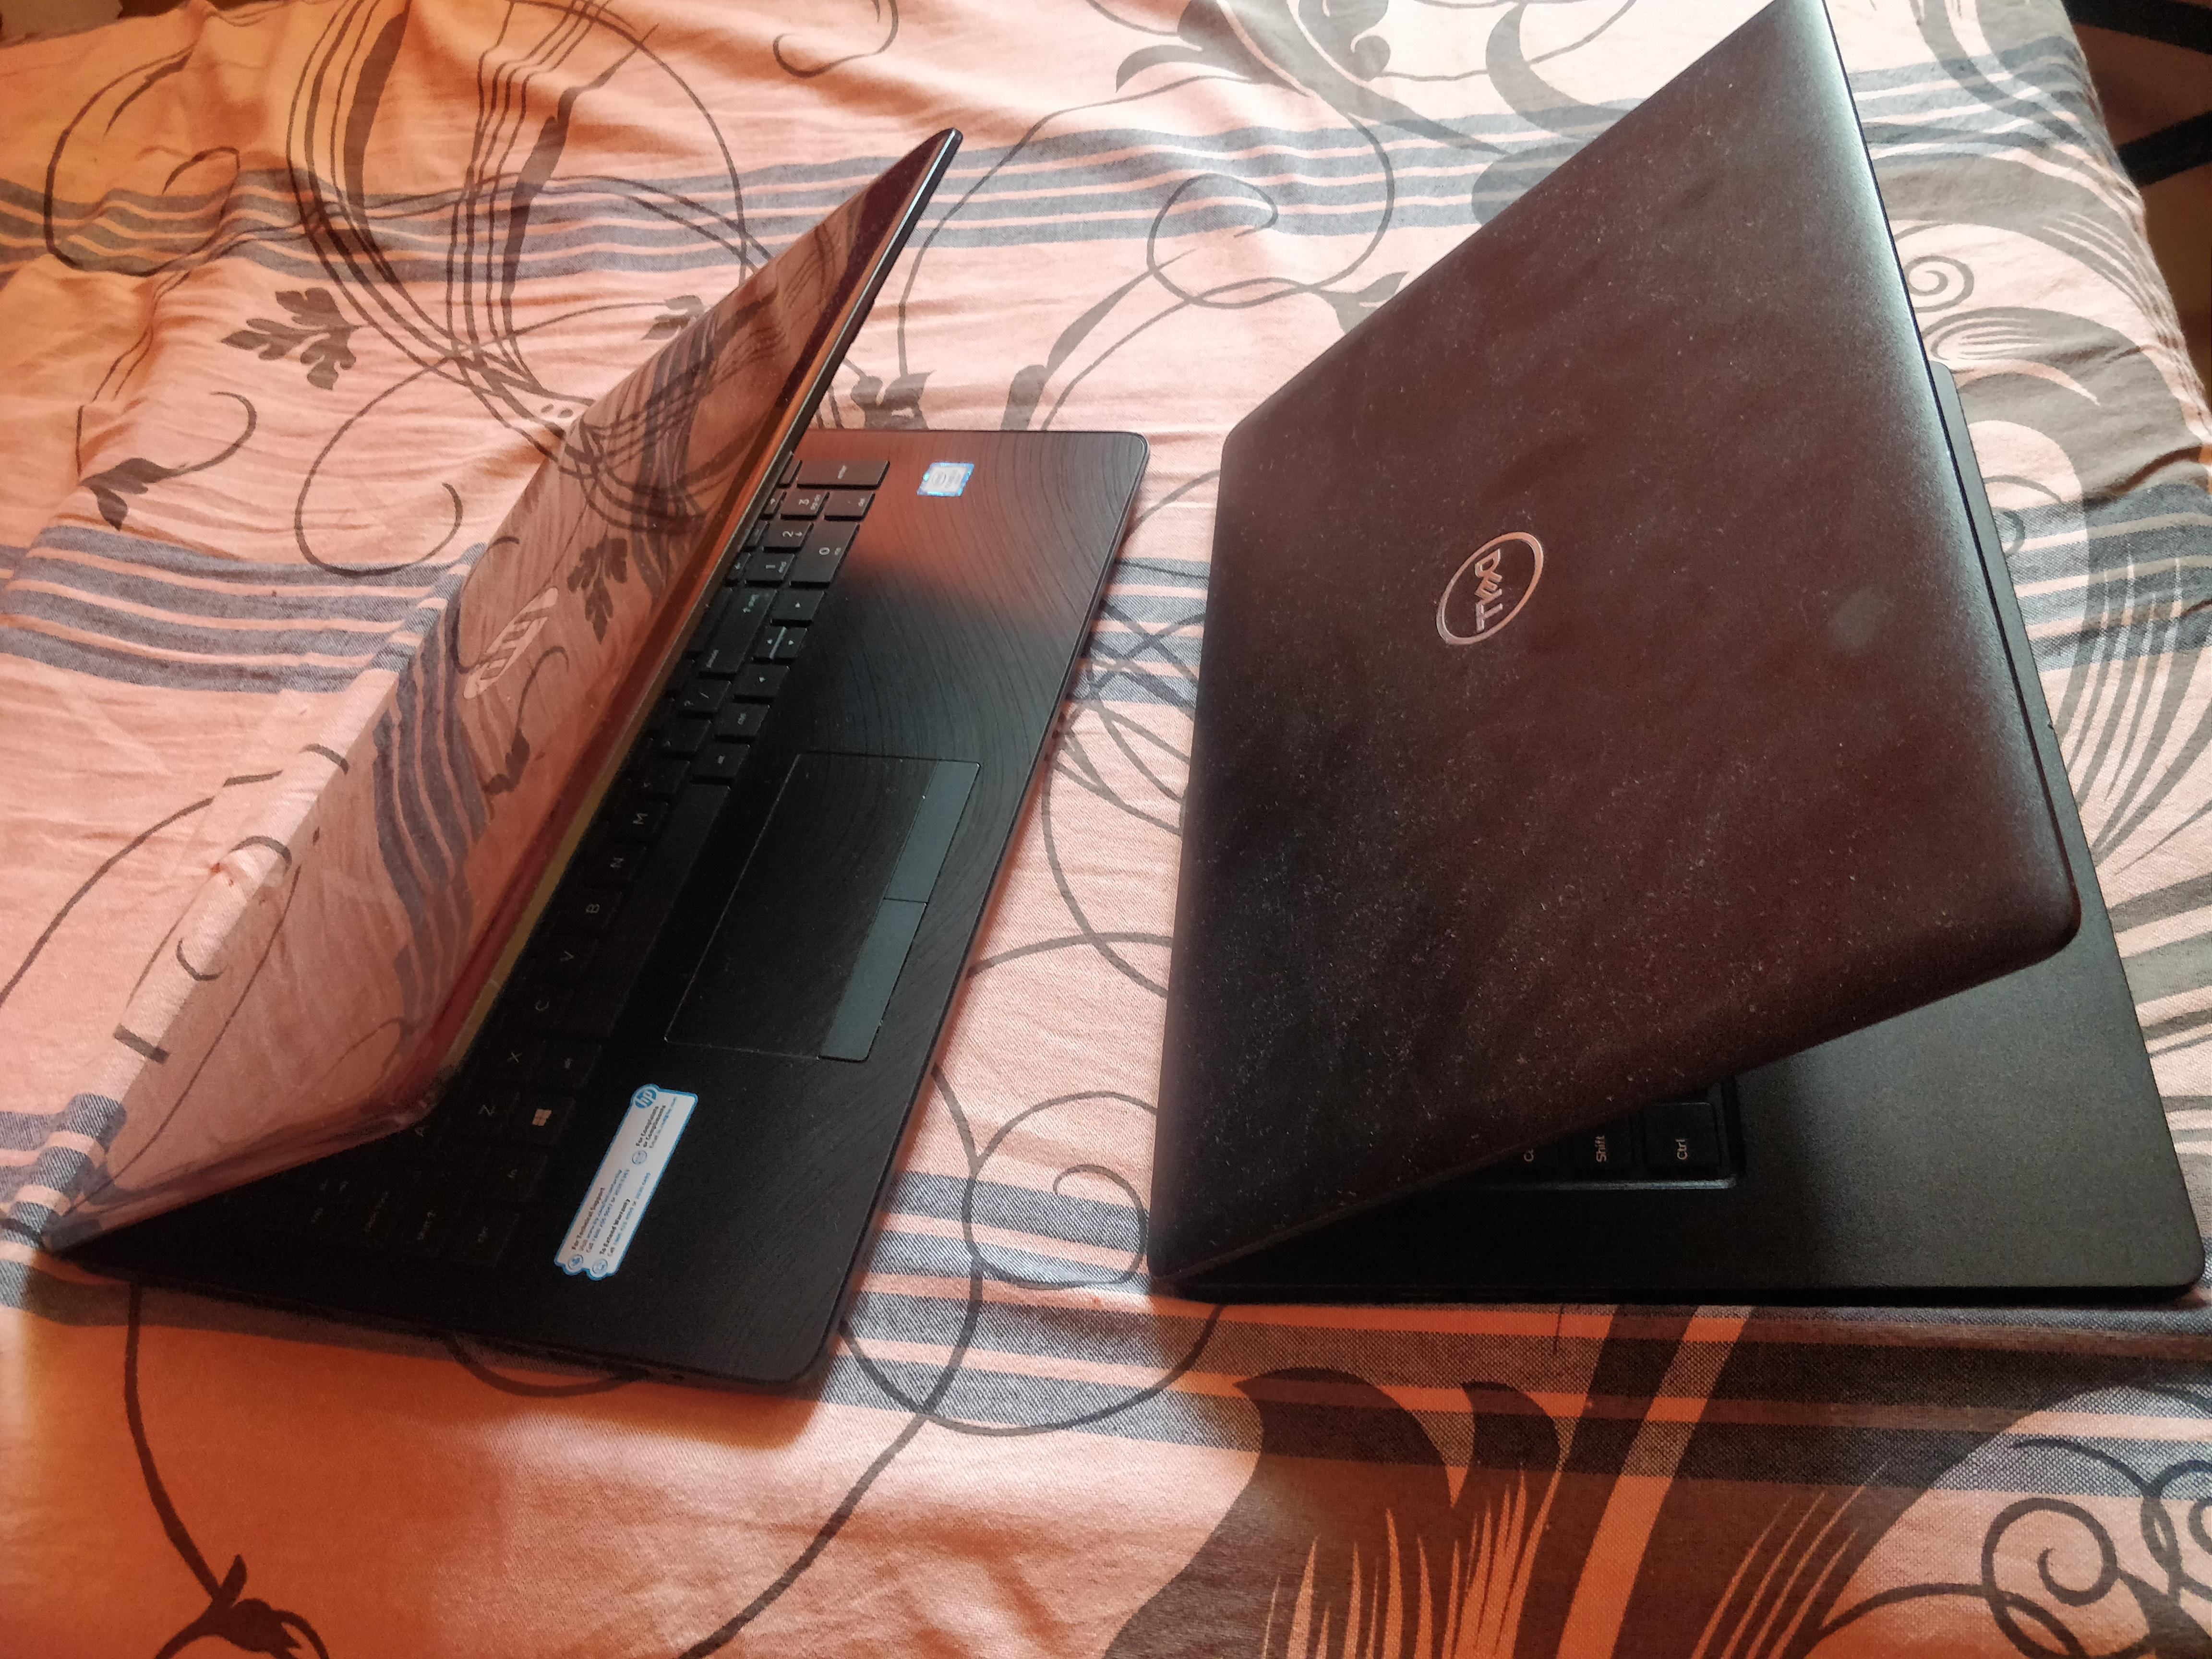laptop: (28, 113, 1165, 1415), (1127, 0, 2212, 1344)
